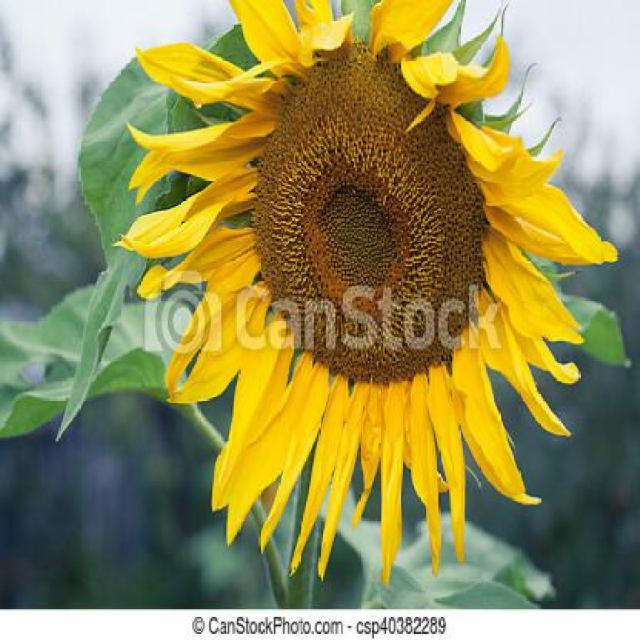sunflower: (94, 0, 630, 588)
